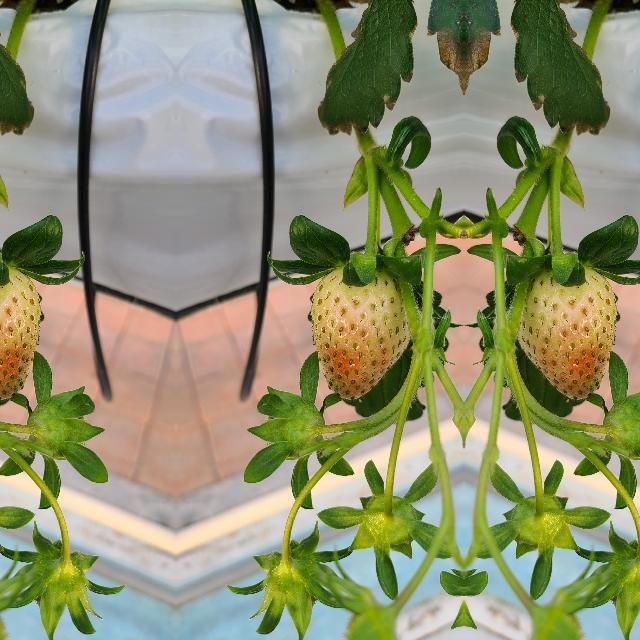Health_25: (308, 264, 410, 402), (516, 264, 618, 402), (0, 264, 42, 401)
